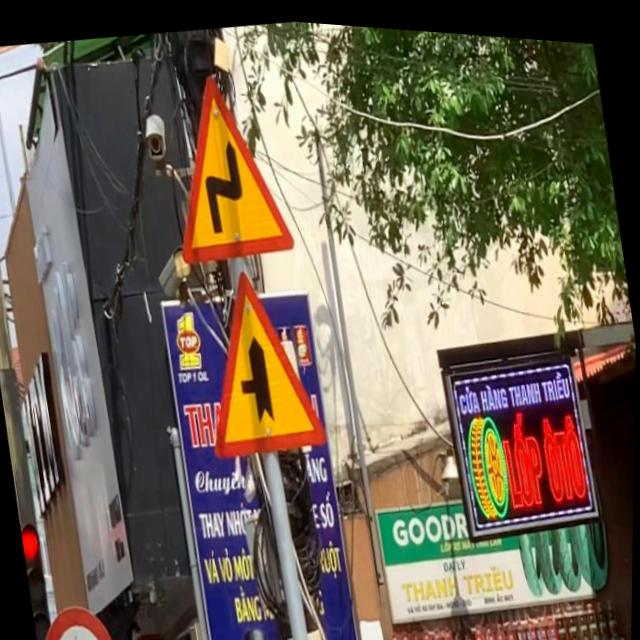Giao nhau voi duong khong uu tien ben trai: (186, 251, 335, 467)
Nhieu cho ngoat lien tiep ben phai: (153, 53, 302, 273)
